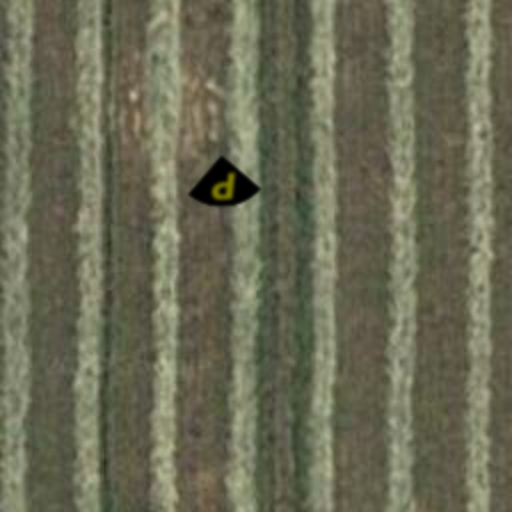quarter_circle: (186, 148, 262, 224)
